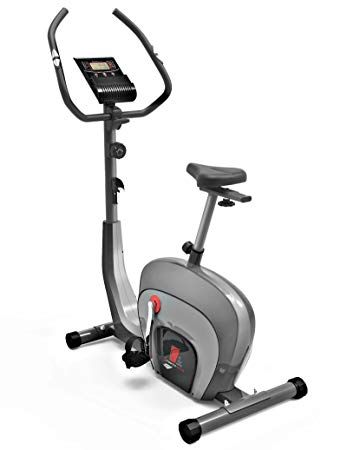gym_bike: (17, 9, 314, 437)
